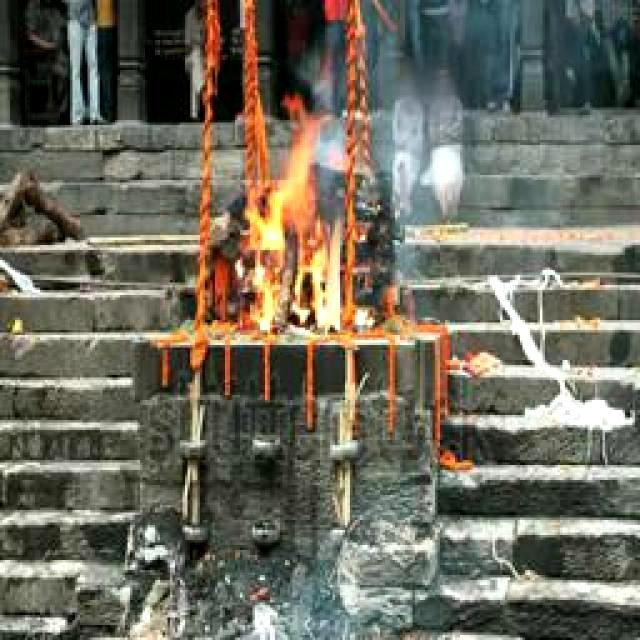fire: (243, 115, 345, 332)
